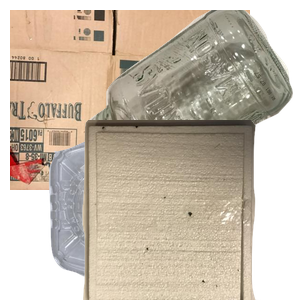cardboard: (10, 10, 250, 190)
glass: (86, 10, 300, 184)
plastic: (46, 130, 227, 300)
trash: (80, 120, 300, 300)
